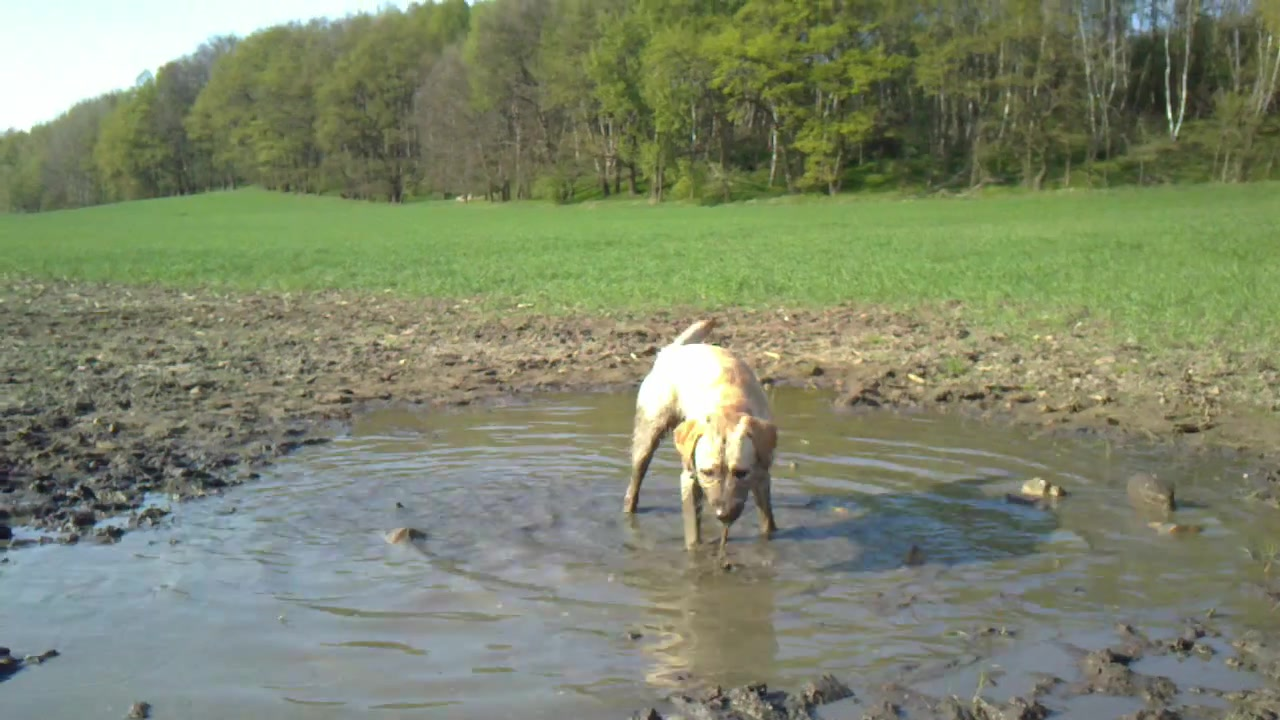dog: (622, 315, 783, 557)
